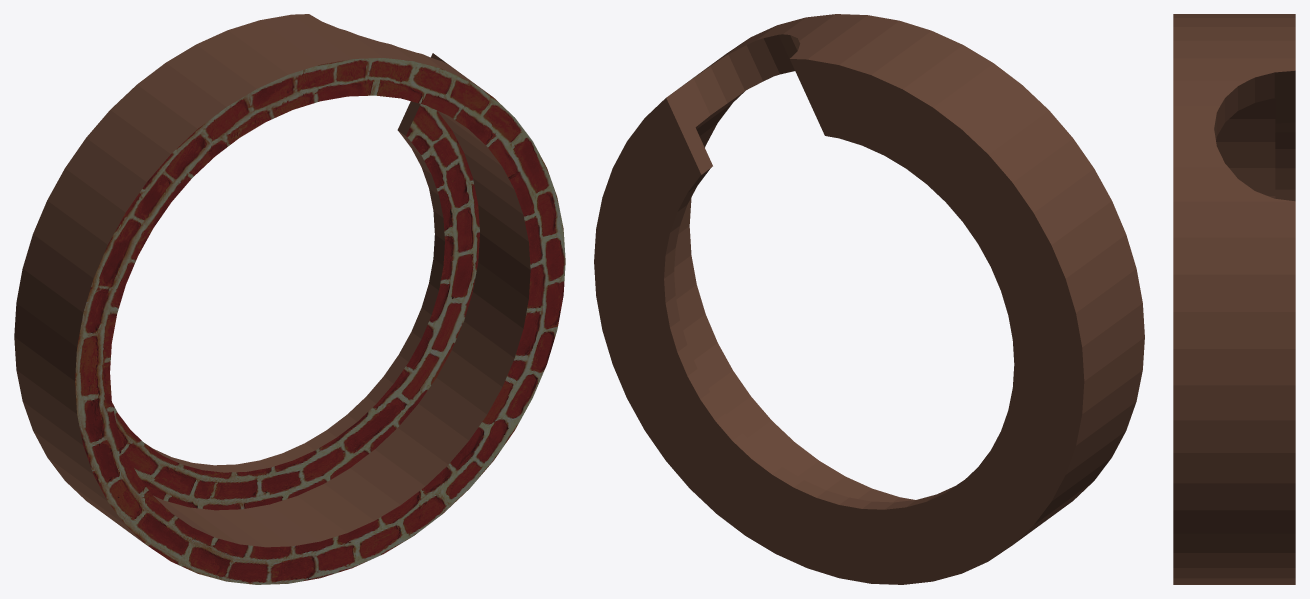
File: pool_002.obj
The picture shows the model from 3 angles, left to right: view 1: azimuth 30°, elevation 25°; view 2: azimuth 150°, elevation 25°; view 3: azimuth 270°, elevation 25°; orthographic projection.
Bounding box in the file's own units: 14 × 14 × 3.
1 material, 1 textured.
